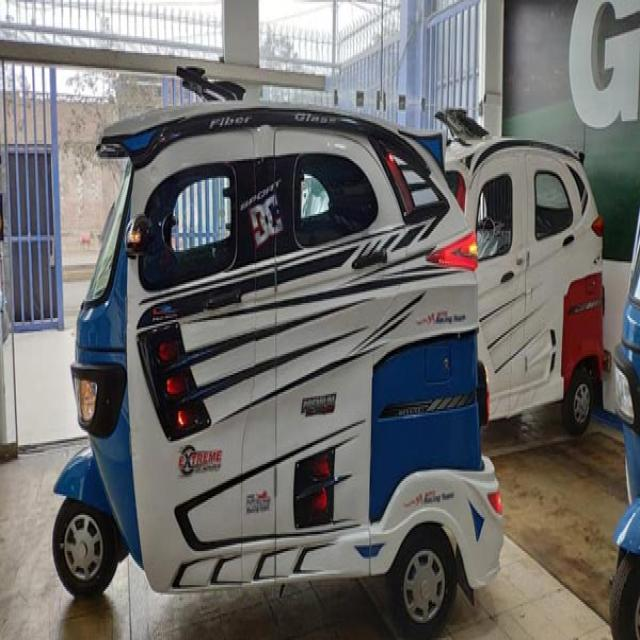autorickshaw: (51, 104, 504, 637)
